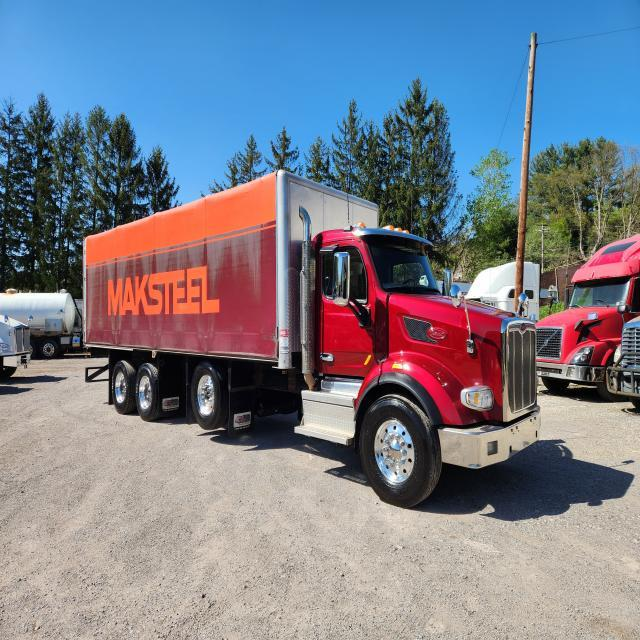traffic light: (81, 168, 541, 508), (534, 232, 640, 402), (0, 287, 84, 359), (0, 314, 32, 378)
